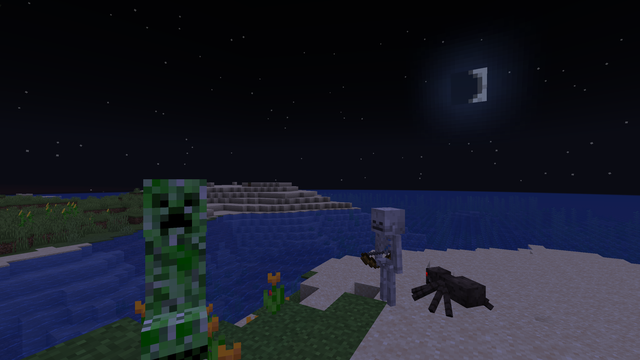araignees: (419, 261, 476, 319)
creepers: (127, 170, 222, 357)
squelettes: (369, 207, 404, 311)
